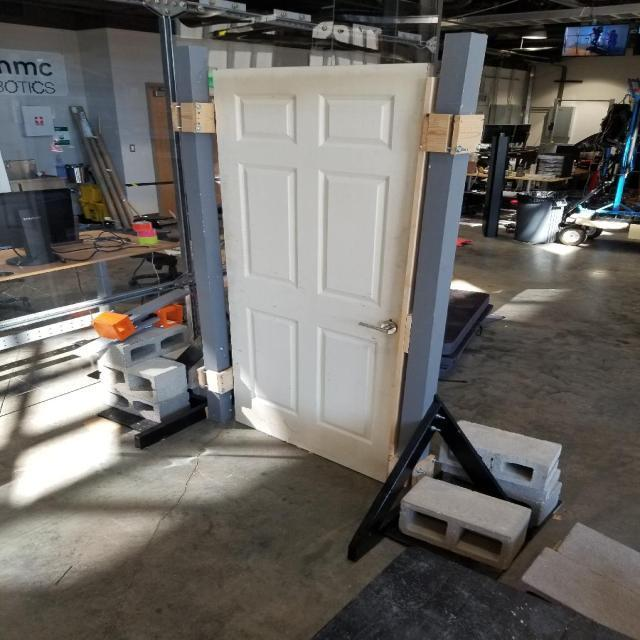door: (208, 60, 438, 495), (356, 316, 397, 340)
